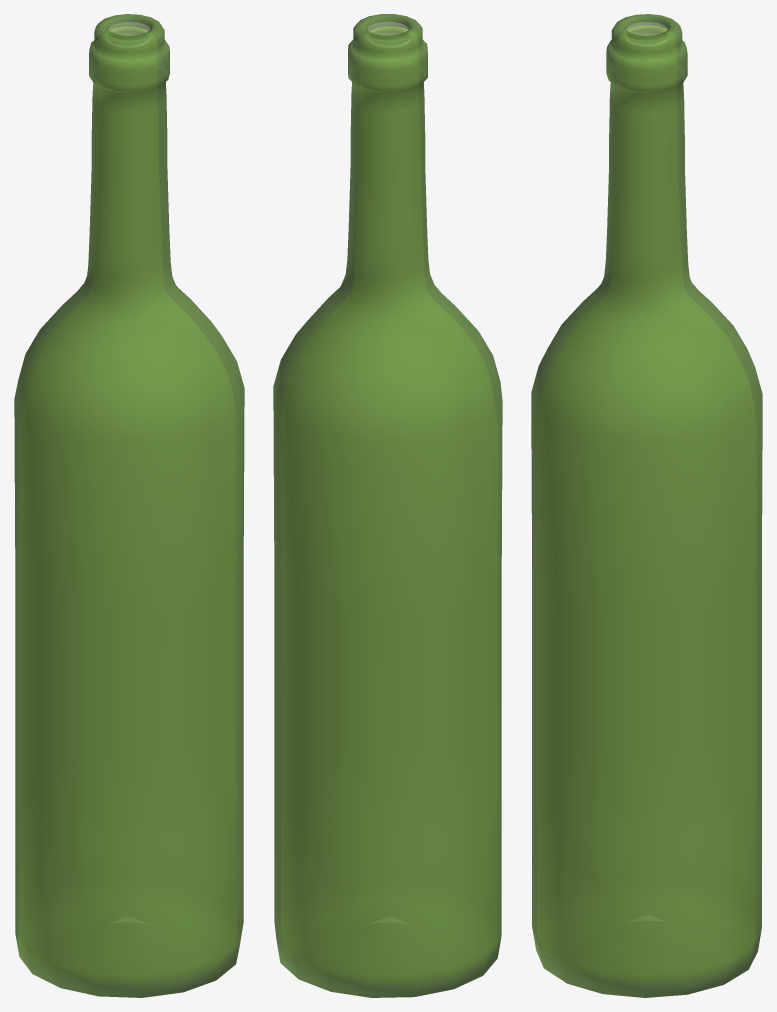
The model's file is bottle.fbx.
3 renders of one model, left to right at view 1: azimuth 30°, elevation 25°; view 2: azimuth 150°, elevation 25°; view 3: azimuth 270°, elevation 25°, orthographic.
Visible parts, largest first — view 1: Bottle Outside, Inside Bottle; view 2: Bottle Outside, Inside Bottle; view 3: Bottle Outside, Inside Bottle.
Part boxes in pixels (x1,y1,x2,y2): Bottle Outside: (14,14,244,997); Inside Bottle: (19,26,235,983); Bottle Outside: (273,14,502,997); Inside Bottle: (281,26,497,983); Bottle Outside: (531,14,762,997); Inside Bottle: (538,25,755,982).
Size of the model in its own units: 0.2885 by 1.29 by 0.2885.
